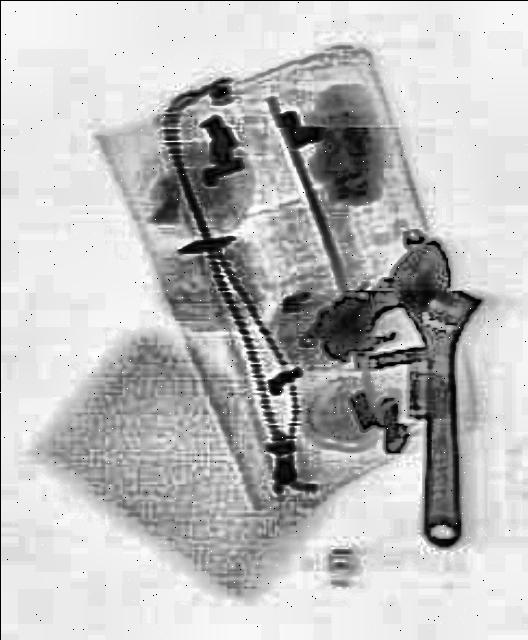Wrench: (386, 242, 484, 554)
